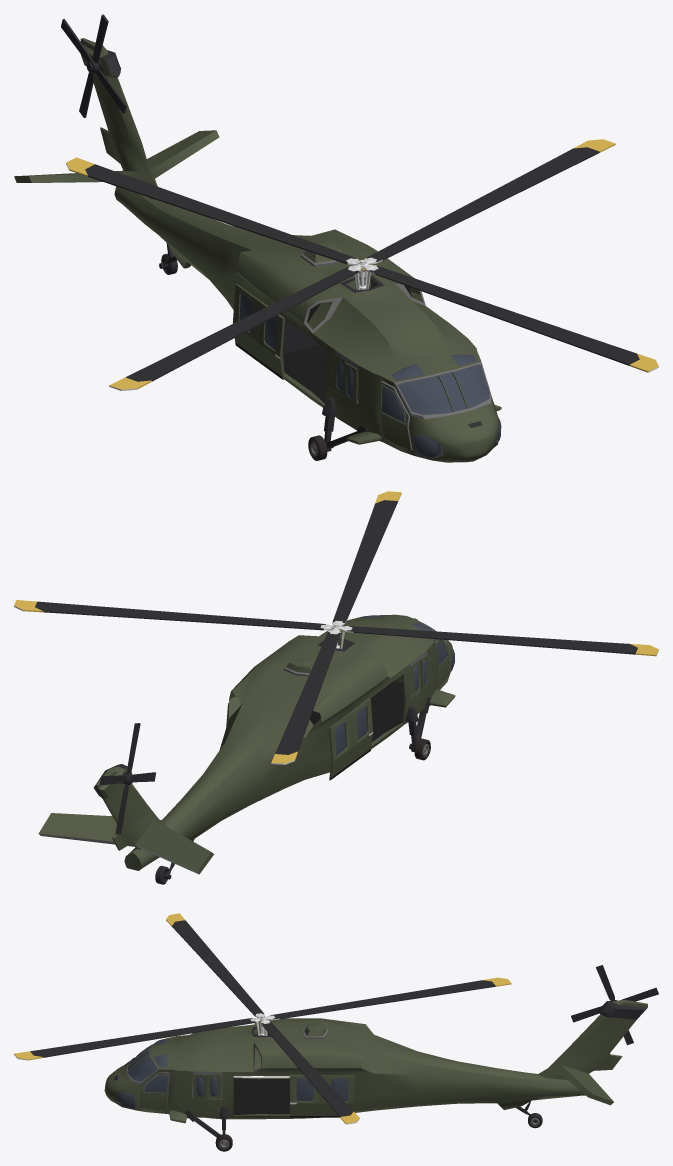
Rendered from uploads_files_3158282_FBX_CHOPPER_LOWpOLY.fbx.
3 renders of one model, top to bottom at view 1: azimuth 30°, elevation 25°; view 2: azimuth 150°, elevation 25°; view 3: azimuth 270°, elevation 25°, orthographic. The views are drawn at different scales.
Parts seen in each view (by area): view 1: chopper body, Rotor Principal, rotor de cauda; view 2: chopper body, Rotor Principal, rotor de cauda; view 3: chopper body, Rotor Principal, rotor de cauda.
Part boxes in pixels (x1,y1,x2,y2): chopper body: (14,38,501,462); Rotor Principal: (66,139,658,390); rotor de cauda: (61,14,126,117); chopper body: (38,614,455,884); Rotor Principal: (14,491,658,764); rotor de cauda: (99,723,155,834); chopper body: (104,1000,647,1151); Rotor Principal: (14,913,511,1124); rotor de cauda: (571,965,658,1045).
Size of the model in its own units: 1977 by 687 by 2561.
